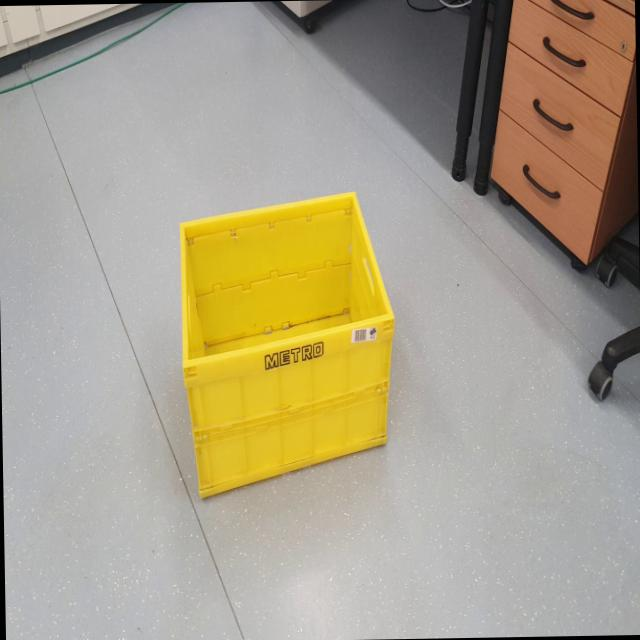box: (168, 180, 404, 512)
